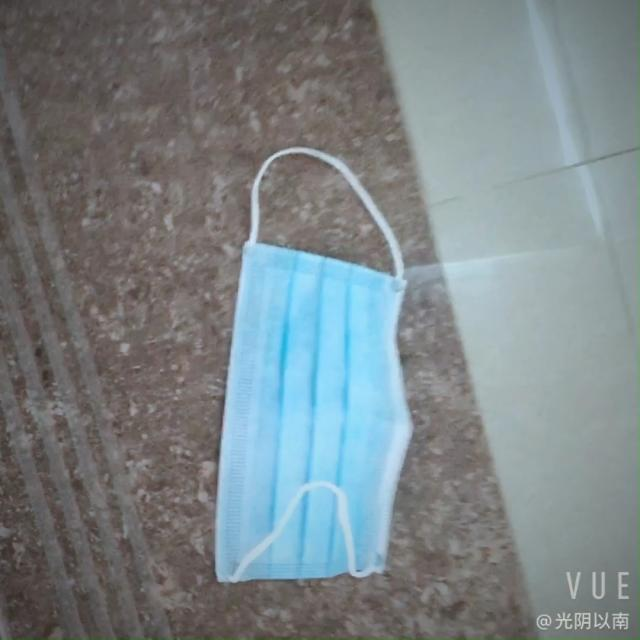face mask: (196, 248, 423, 600)
